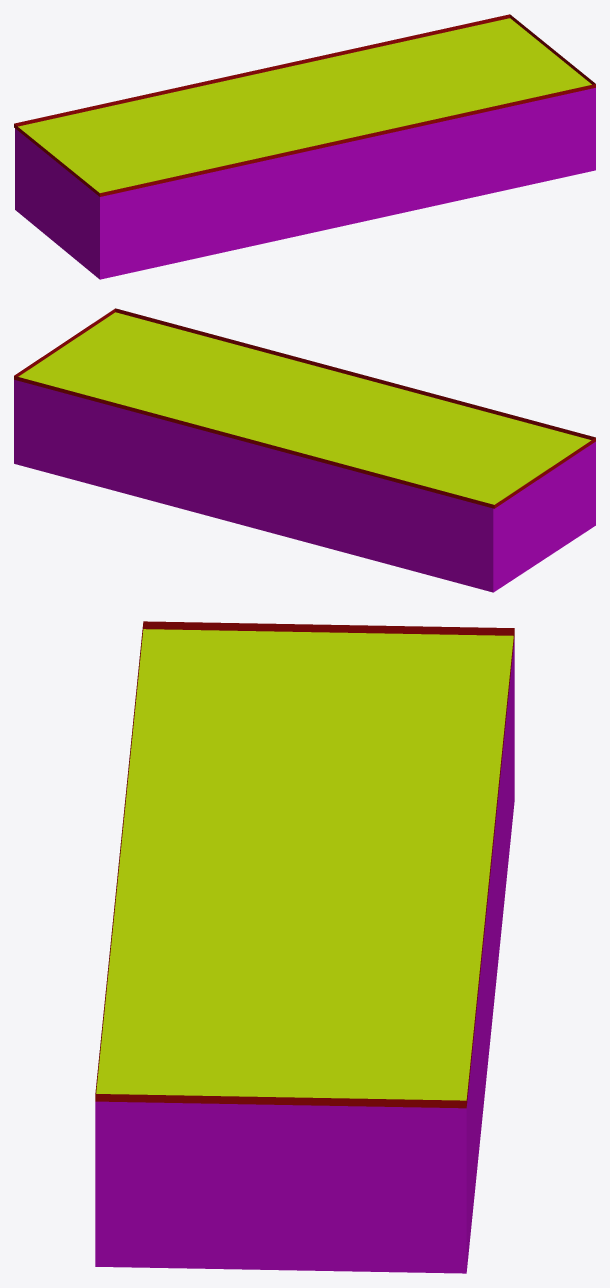
3 renders of one model, top to bottom at view 1: azimuth 30°, elevation 25°; view 2: azimuth 150°, elevation 25°; view 3: azimuth 270°, elevation 25°, orthographic. The views are drawn at different scales.
Parts seen in each view (by area): view 1: sc_66; view 2: sc_66; view 3: sc_66.
Part boxes in pixels (x1=…): sc_66: x1=14, y1=14, x2=595, y2=279; sc_66: x1=14, y1=308, x2=595, y2=592; sc_66: x1=95, y1=621, x2=514, y2=1273.
Bounding box in the file's own units: 46.72 × 7.86 × 17.28.
